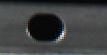holes: (25, 12, 66, 43)
